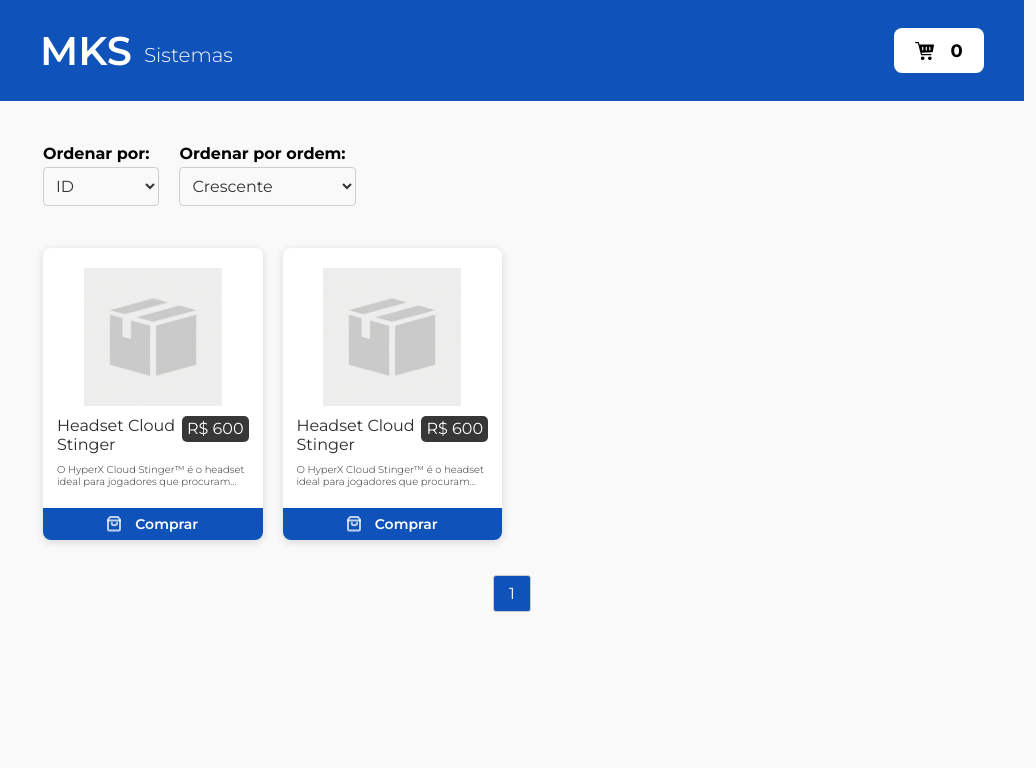
Test: should add and subtract product quantity in the cart
Click the 1st button "Comprar": x=153, y=524 [43,508,262,540]
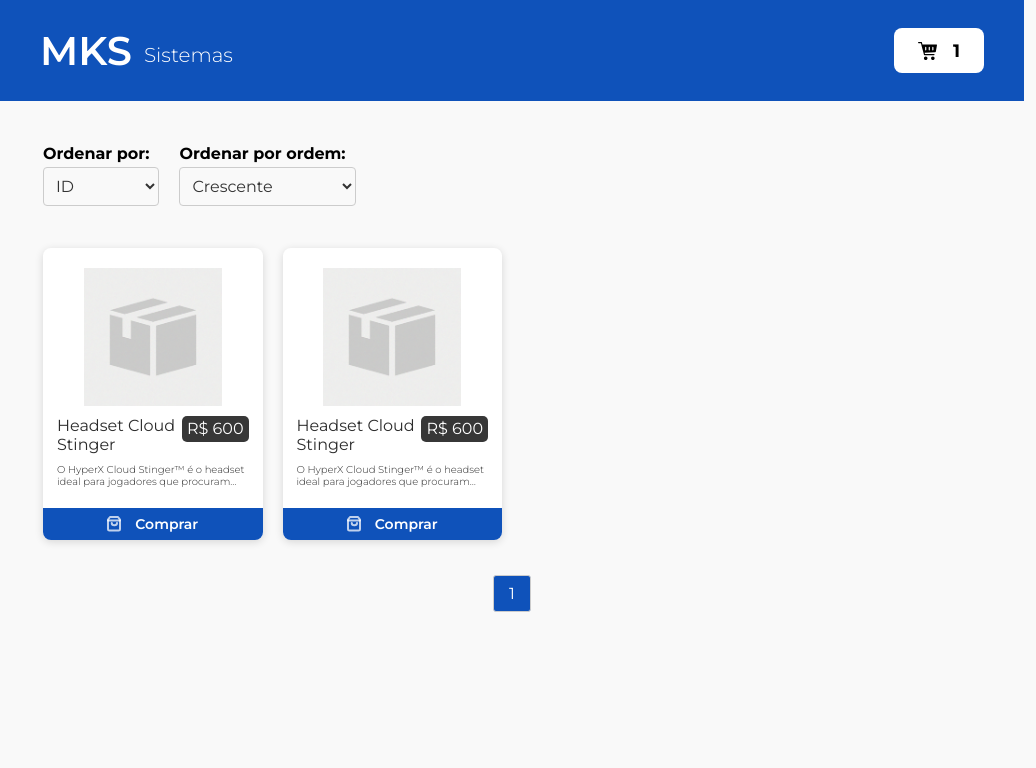
expect the text with test id "cart-product-quantity" reads "1": met, box [953,40,960,62]
Click the button with test id "open-cart-btn": x=939, y=50 [894,28,984,73]
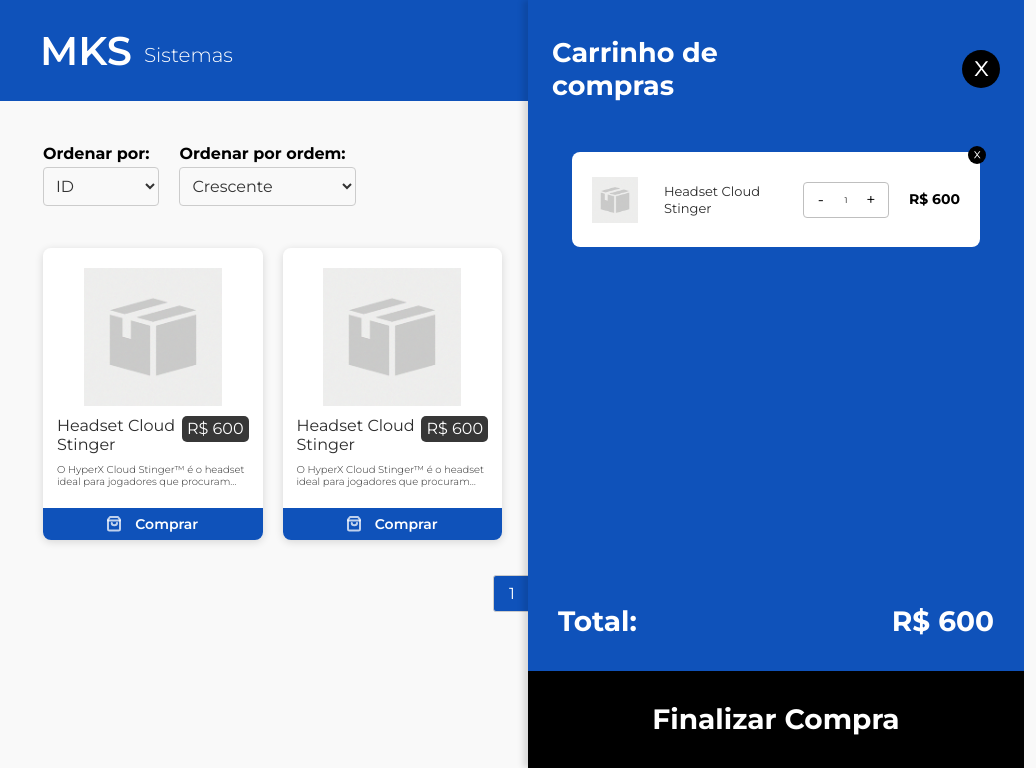
Click the button with test id "increase-cart-product-btn": x=871, y=200 [854,182,888,216]
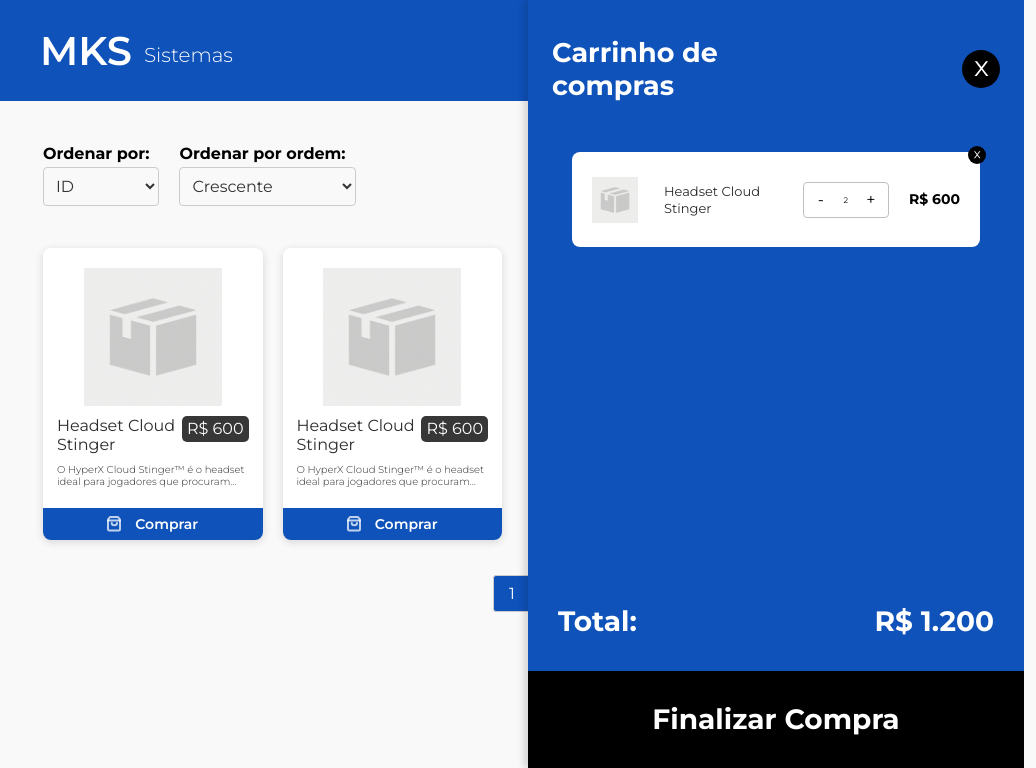
expect the text with test id "cart-product-quantity-0" reads "2": met, box [844,194,848,204]
Click the button with test id "decrease-cart-product-btn": x=821, y=200 [804,182,838,216]
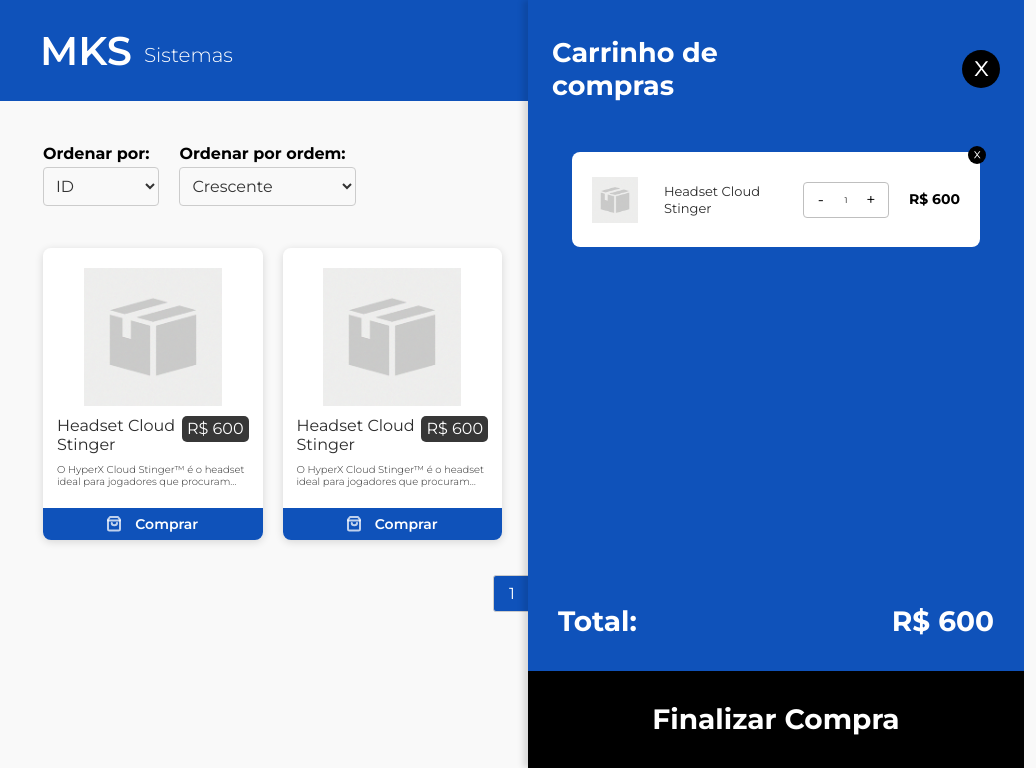
expect the text with test id "cart-product-quantity-0" reads "1": met, box [844,194,847,204]
